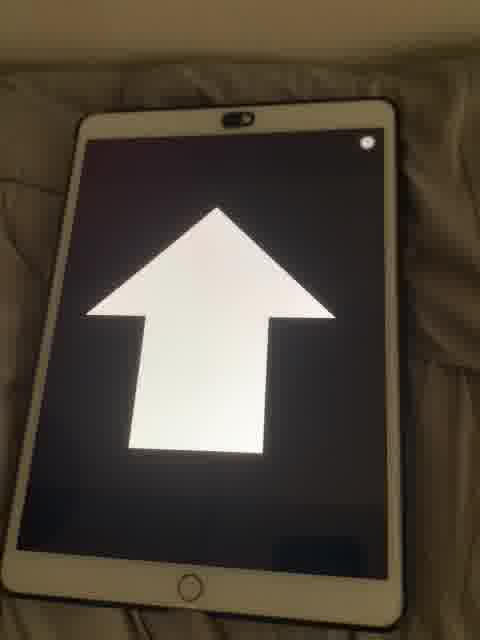up: (81, 205, 338, 458)
